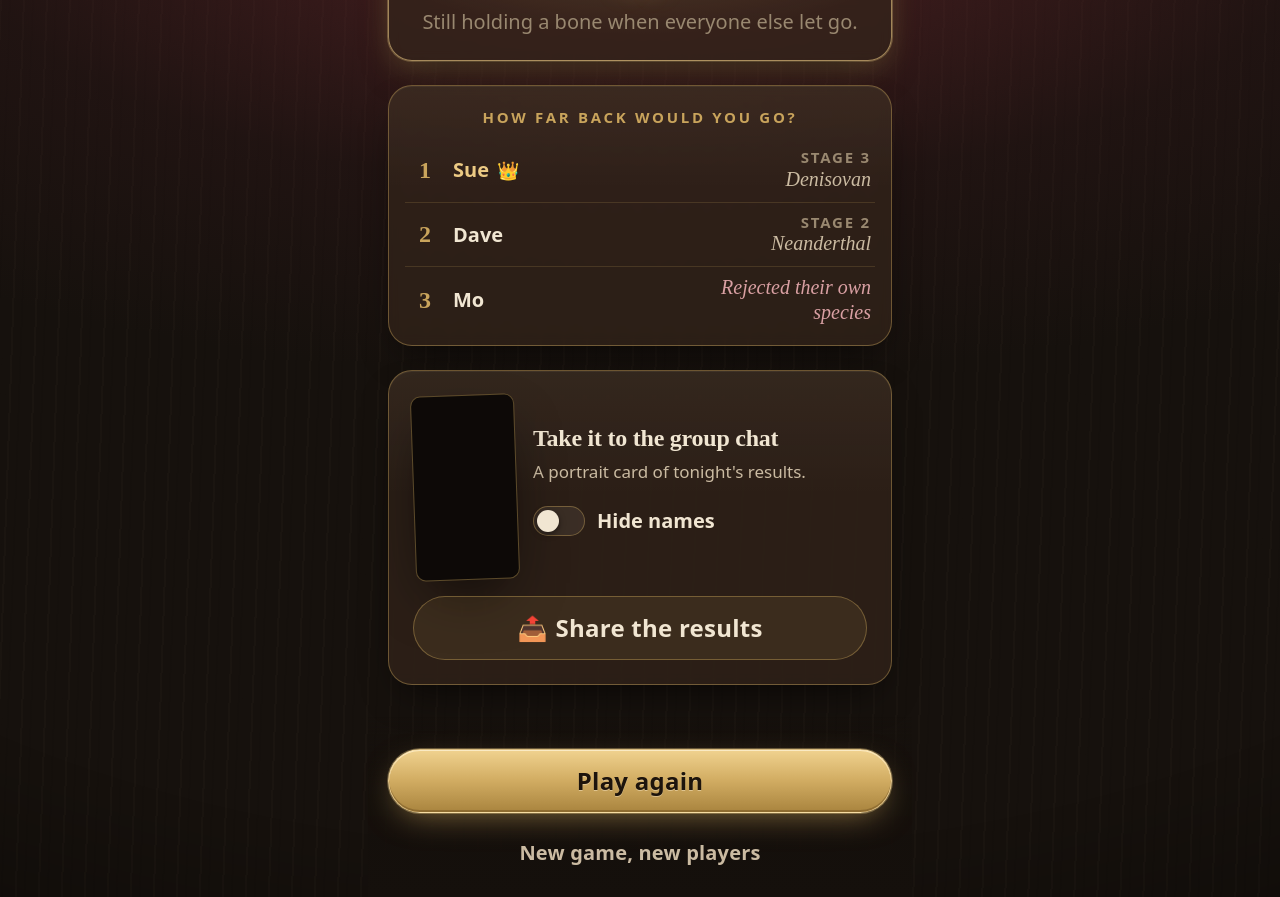
Test: End › tells the host when the file was downloaded instead
(page scrolled)
What coordinates should you click on to do the following:
click the button "📤 Share the results"
I would click on:
 (640, 628)
Its box is [413,596,867,660].
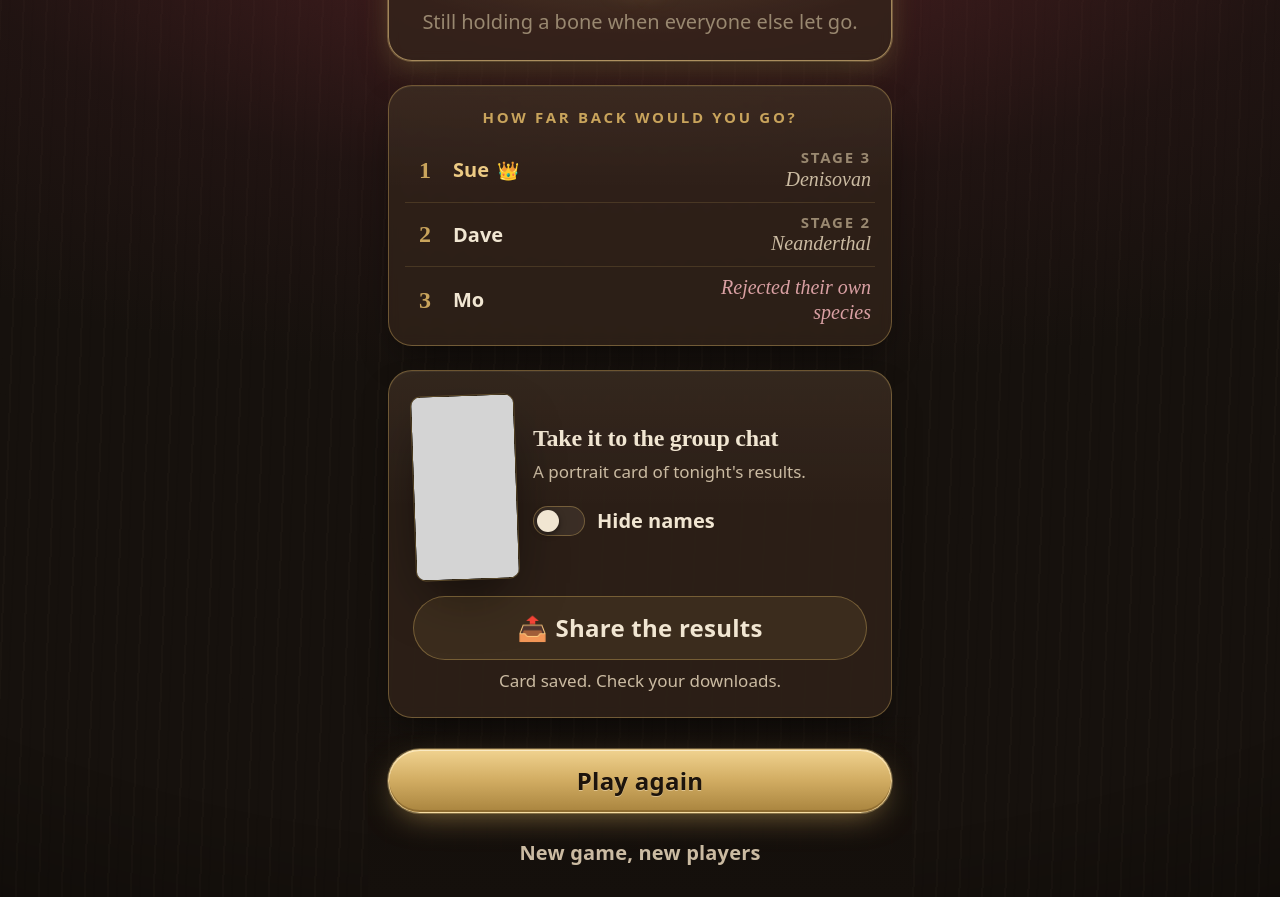
Expected: the text "Card saved. Check your downloads." is shown, [499,669,781,692]
